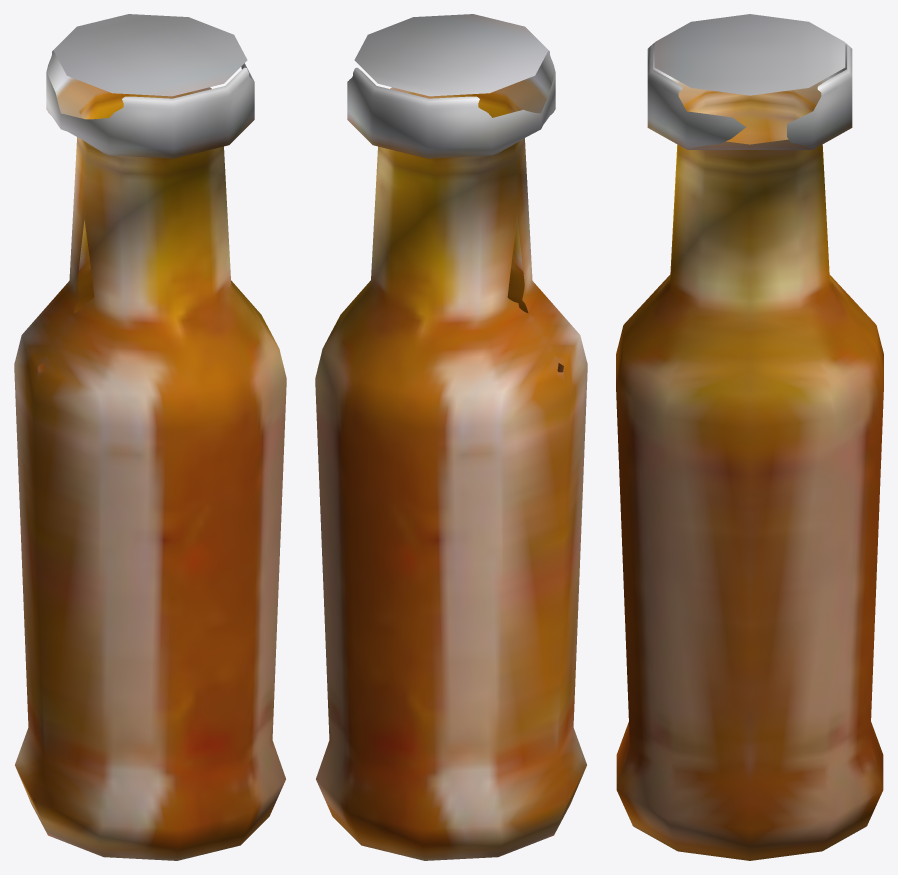
Rendered from paprika_bottle.FBX.
The picture shows the model from 3 angles, left to right: view 1: azimuth 30°, elevation 25°; view 2: azimuth 150°, elevation 25°; view 3: azimuth 270°, elevation 25°; orthographic projection.
Visible parts, largest first — view 1: paprika; view 2: paprika; view 3: paprika.
Part boxes in pixels (box(x1,y1,x2,y2)): paprika: box(14, 14, 286, 860); paprika: box(315, 14, 587, 860); paprika: box(616, 14, 883, 860).
Bounding box in the file's own units: 29.32 × 90.11 × 28.93.
